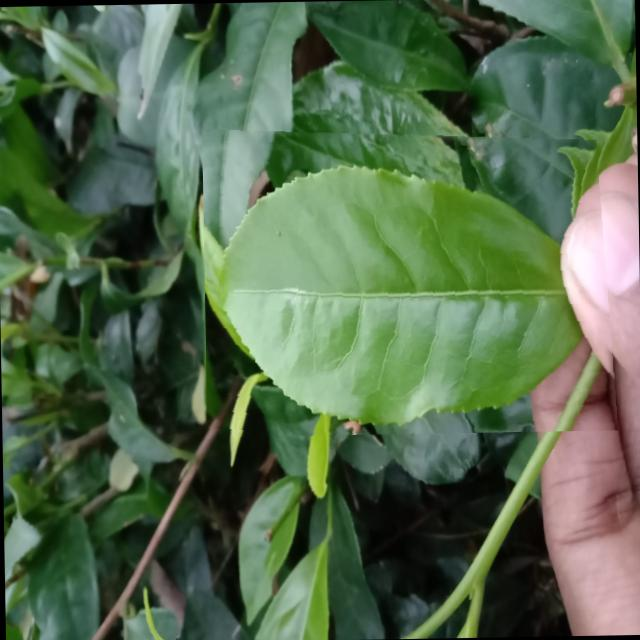Category C 4-7 days: (202, 120, 619, 436)
